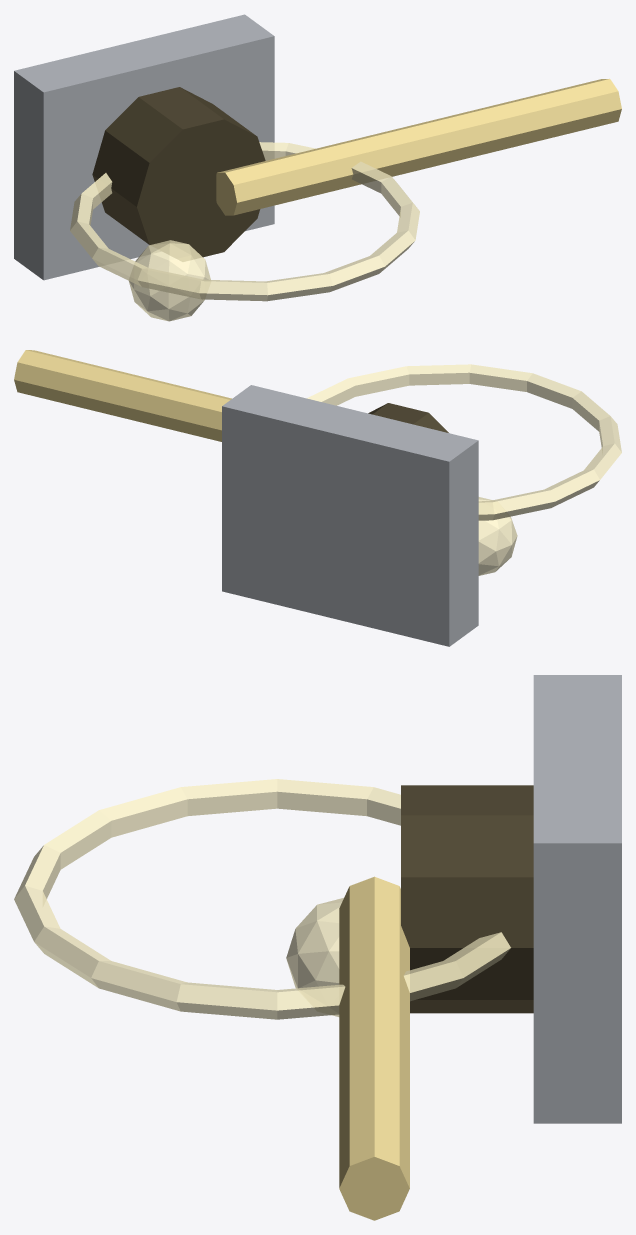
File: 09_skyship_defense.glb
The picture shows the model from 3 angles, top to bottom: view 1: azimuth 30°, elevation 25°; view 2: azimuth 150°, elevation 25°; view 3: azimuth 270°, elevation 25°; orthographic projection. The views are drawn at different scales.
Visible parts, largest first — view 1: weapon_mount_base, turret_pivot, cannon_barrel, shield_projector_ring, targeting_core; view 2: weapon_mount_base, shield_projector_ring, cannon_barrel, targeting_core, turret_pivot; view 3: weapon_mount_base, turret_pivot, shield_projector_ring, cannon_barrel, targeting_core.
Part boxes in pixels (x1=…): weapon_mount_base: x1=14, y1=14, x2=274, y2=280; turret_pivot: x1=92, y1=87, x2=265, y2=261; cannon_barrel: x1=216, y1=79, x2=621, y2=215; shield_projector_ring: x1=70, y1=142, x2=419, y2=301; targeting_core: x1=129, y1=240, x2=210, y2=321; weapon_mount_base: x1=222, y1=385, x2=478, y2=646; shield_projector_ring: x1=307, y1=364, x2=621, y2=520; cannon_barrel: x1=14, y1=350, x2=231, y2=441; targeting_core: x1=478, y1=497, x2=517, y2=575; turret_pivot: x1=368, y1=403, x2=448, y2=432; weapon_mount_base: x1=533, y1=675, x2=621, y2=1123; turret_pivot: x1=401, y1=785, x2=533, y2=1013; shield_projector_ring: x1=14, y1=779, x2=510, y2=1019; cannon_barrel: x1=339, y1=876, x2=409, y2=1220; targeting_core: x1=286, y1=898, x2=343, y2=1016.
Bounding box in the file's own units: 1.07 × 0.365 × 0.688.
